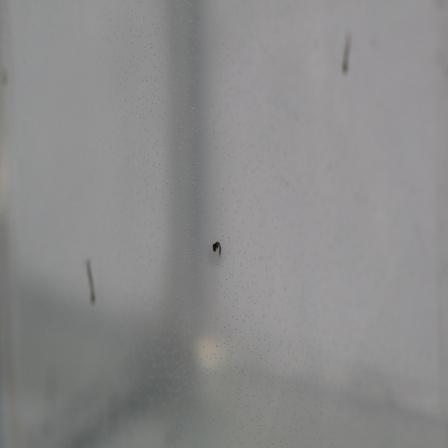Jentik-Nyamuk: (208, 238, 225, 260)
